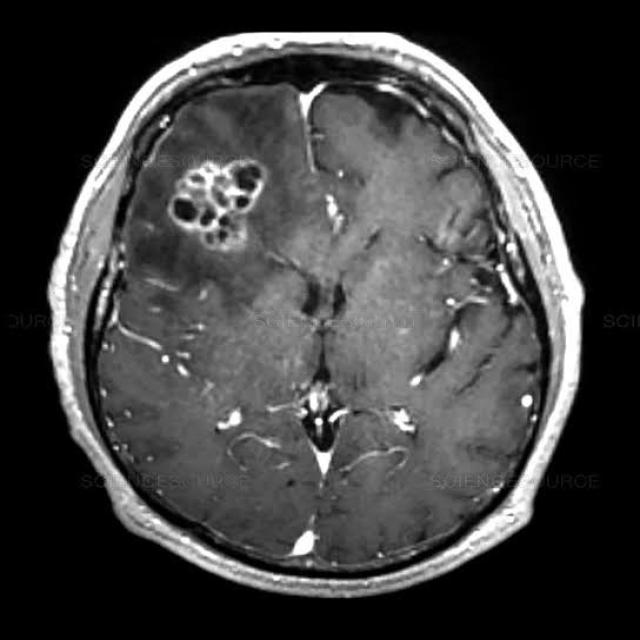tumor: (168, 160, 268, 253)
